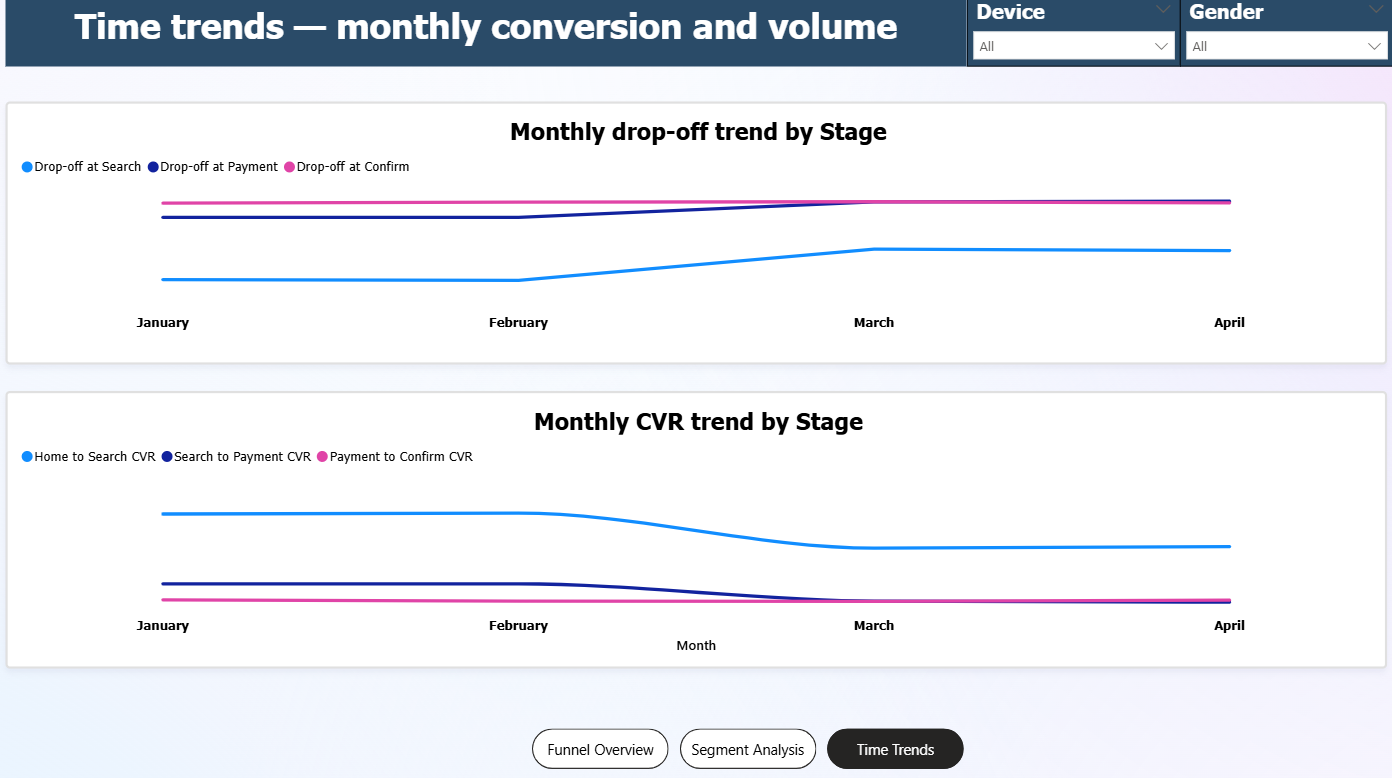

What the dashboard file says about the page in this screenshot:
{"tool":"powerbi","page":{"name":"Time Trends","canvas":[1280,720],"ordinal":2},"visuals":[{"type":"textbox","box":[10.2,0,879.1,62.7],"z":0},{"type":"lineChart","title":"Monthly CVR trend by Stage","fields":{"Y":["Measure_Table.Home to Search CVR","Measure_Table.Search to Payment CVR","Measure_Table.Payment to Confirm CVR"],"Category":["funnel_data.date.Variation.Date Hierarchy.Month"]},"box":[10.2,360.1,1264,253.7],"z":1000},{"type":"lineChart","title":"Monthly drop-off trend by Stage","fields":{"Y":["Measure_Table.Drop-off at Search","Measure_Table.Drop-off at Payment","Measure_Table.Drop-off at Confirm"],"Category":["funnel_data.date.Variation.Date Hierarchy.Month"]},"box":[10.2,94.8,1264,240.5],"z":3000},{"type":"slicer","fields":{"Values":["funnel_data.sex"]},"box":[1084.6,0,195.4,62.7],"z":4000},{"type":"bookmarkNavigator","box":[491.3,667.7,398,37.9],"z":5000},{"type":"slicer","fields":{"Values":["funnel_data.device"]},"box":[889.3,0,195.4,62.7],"z":6000}]}

Visuals, with their boxes in screenshot pixels (x1, y1, x2, y2), scaled from the page's 1280x720 canvas onto the 1392x778 screenshot:
textbox: locate(11, 0, 967, 68)
"Monthly CVR trend by Stage" lineChart: locate(11, 389, 1386, 663)
"Monthly drop-off trend by Stage" lineChart: locate(11, 102, 1386, 362)
slicer - funnel_data.sex: locate(1180, 0, 1391, 68)
bookmarkNavigator: locate(534, 721, 967, 762)
slicer - funnel_data.device: locate(967, 0, 1180, 68)
